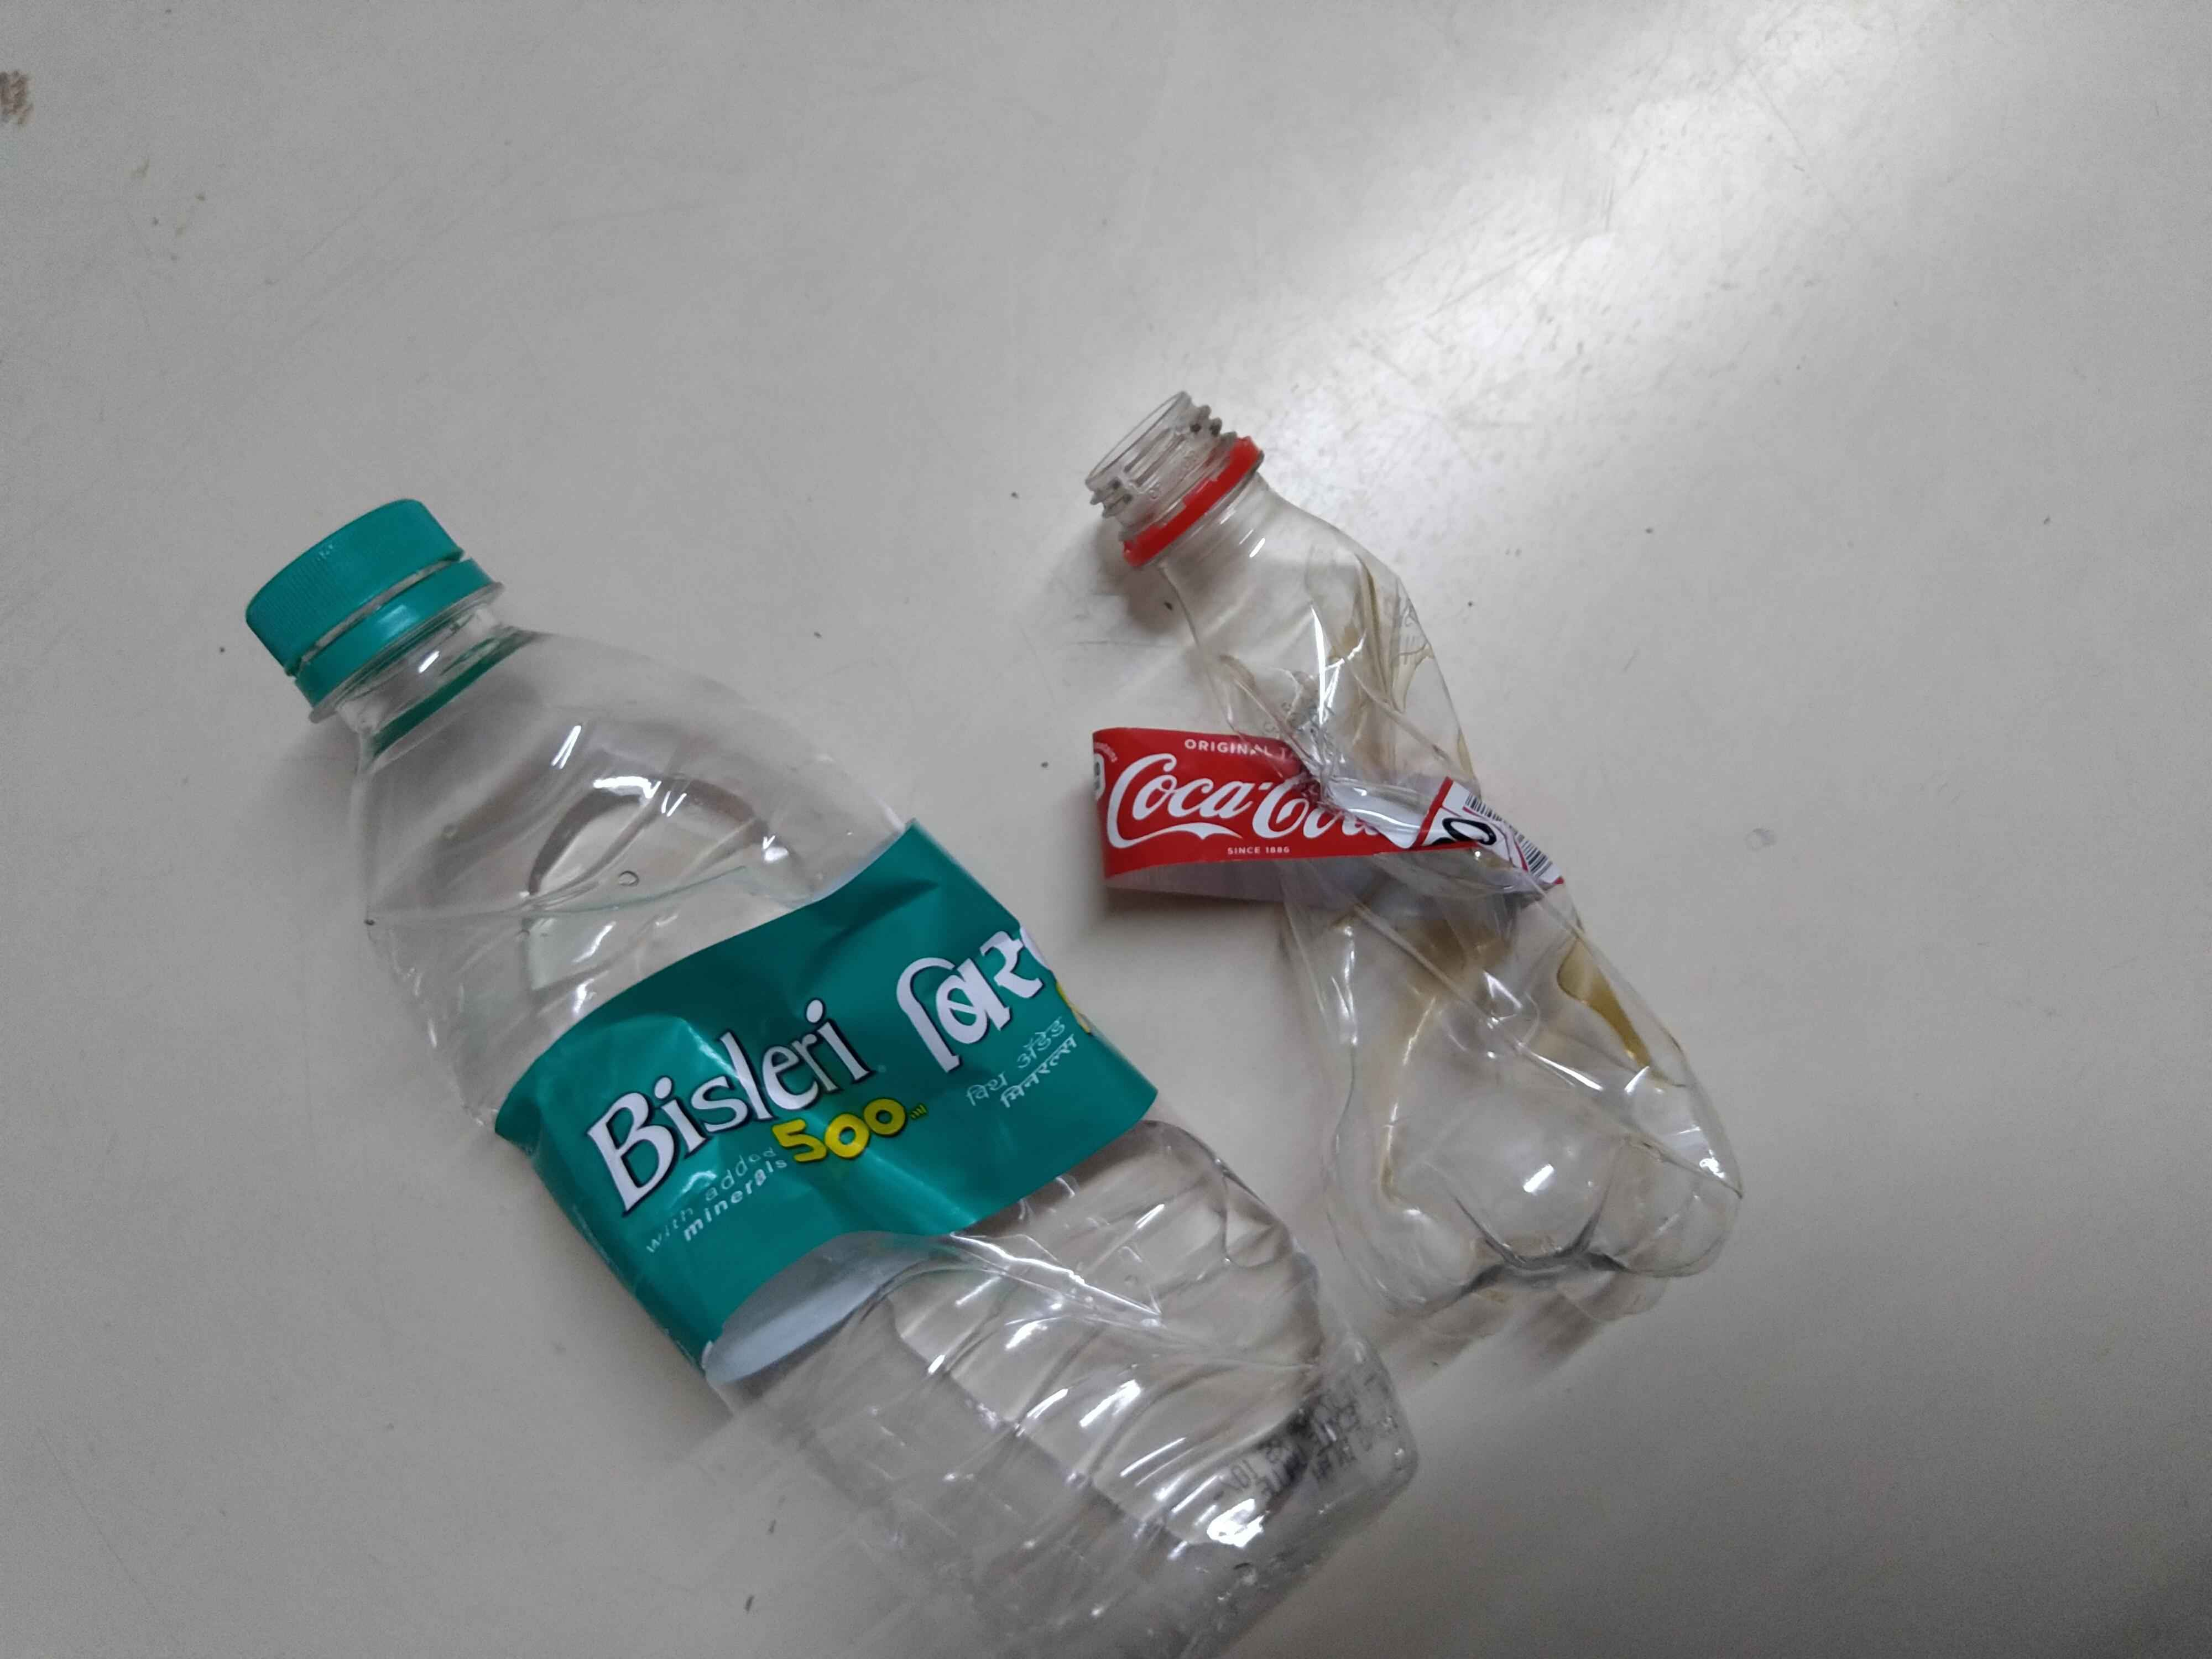Bisleri: (589, 931, 1068, 1232)
Coca-Cola: (1096, 744, 1383, 859)
